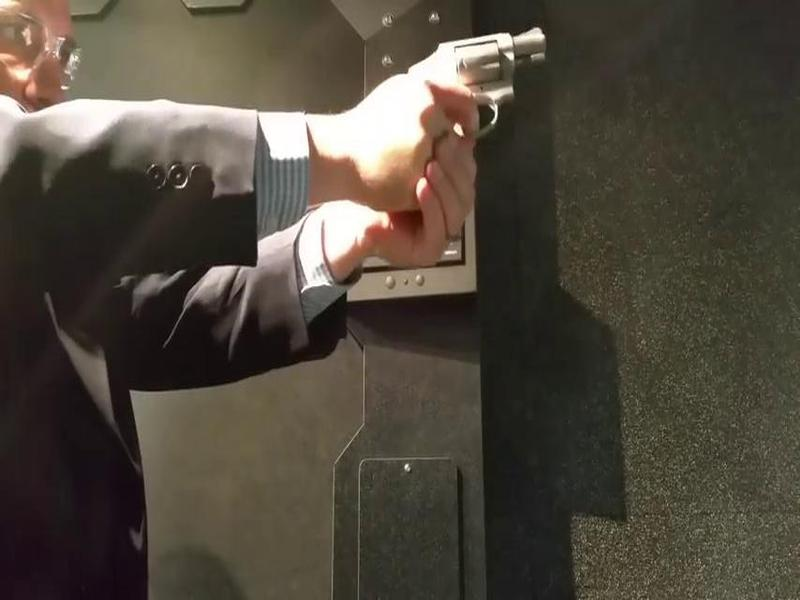Revolver: (394, 22, 561, 152)
